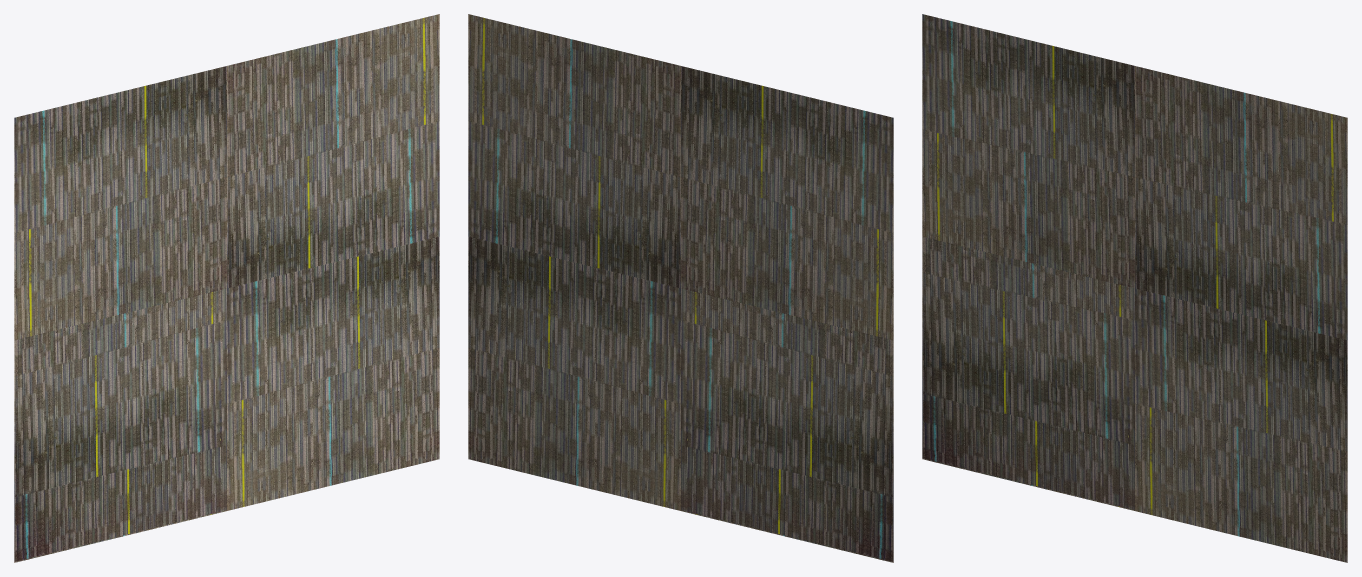
Rendered from arena_floor.obj.
3 views of the same model, side by side, from view 1: azimuth 30°, elevation 25°; view 2: azimuth 150°, elevation 25°; view 3: azimuth 330°, elevation 25° (orthographic).
Parts seen in each view (by area): view 1: Plane; view 2: Plane; view 3: Plane.
Boxes of the visible parts, box(x1,y1,x2,y2) form: Plane: box(14, 14, 439, 562); Plane: box(468, 14, 893, 562); Plane: box(922, 14, 1347, 562).
Size of the model in its own units: 2.1 by 2.1 by 0.
1 material, 1 textured.
